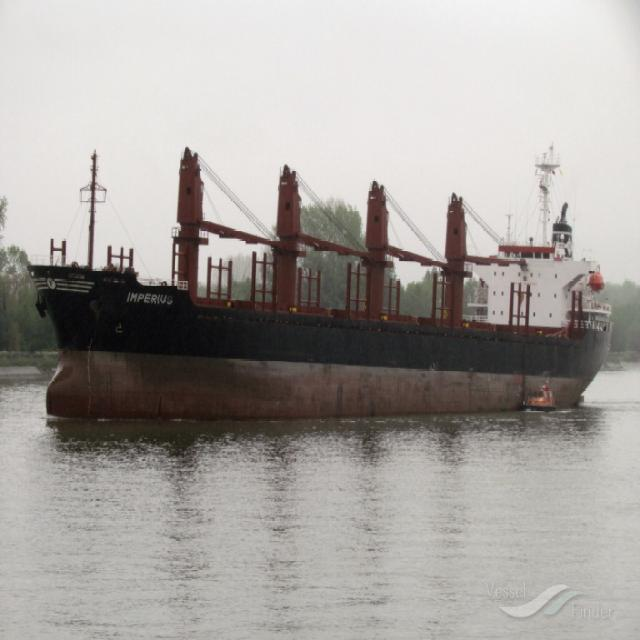OCR: (121, 286, 177, 314)
